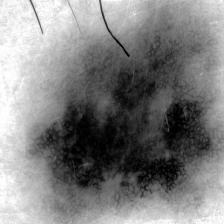Benign Marking or Mole: (52, 34, 222, 212)
